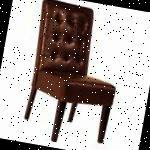Silla: (19, 0, 129, 149)
